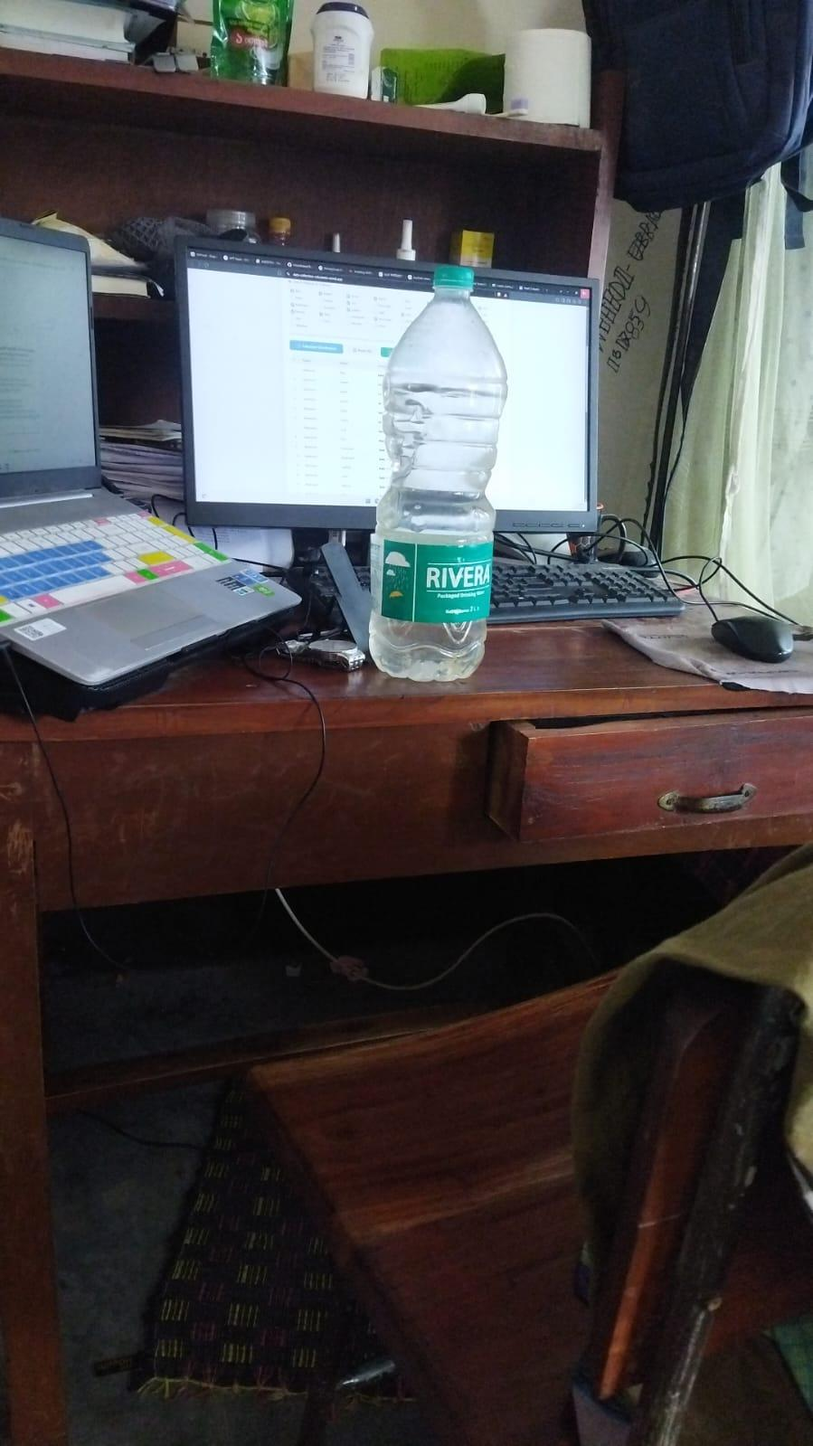Bottle: (367, 262, 512, 678)
Chair: (229, 976, 795, 1446)
Drawer: (460, 707, 813, 839)
Floor Mat: (164, 1028, 432, 1423)
Keyboard: (304, 539, 691, 613)
Laptop: (0, 206, 294, 648)
Monitor: (166, 250, 613, 542)
Mouse: (684, 596, 800, 659)
Table: (13, 500, 813, 1427)
